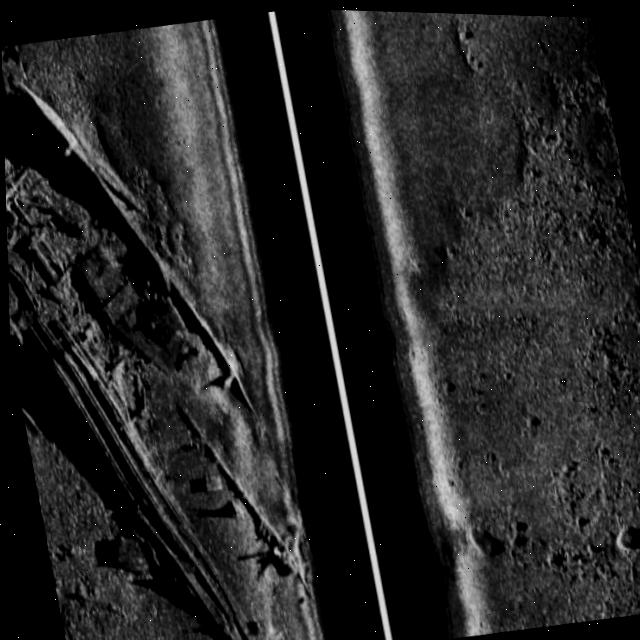shipwreck: (1, 58, 299, 640)
